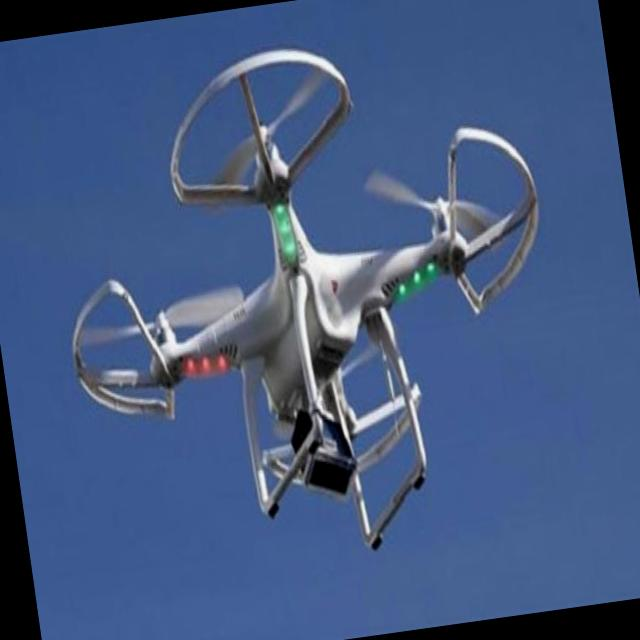drone: (33, 16, 586, 588)
